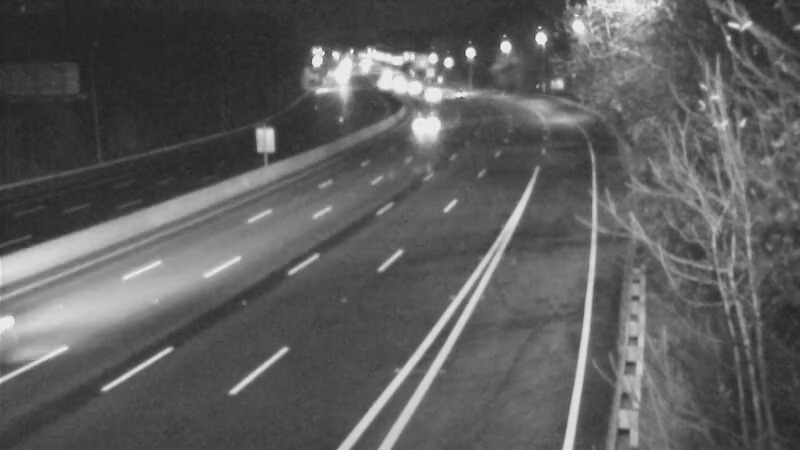vehicle: (1, 271, 86, 381), (437, 68, 487, 118), (408, 68, 458, 118), (399, 100, 449, 150)
